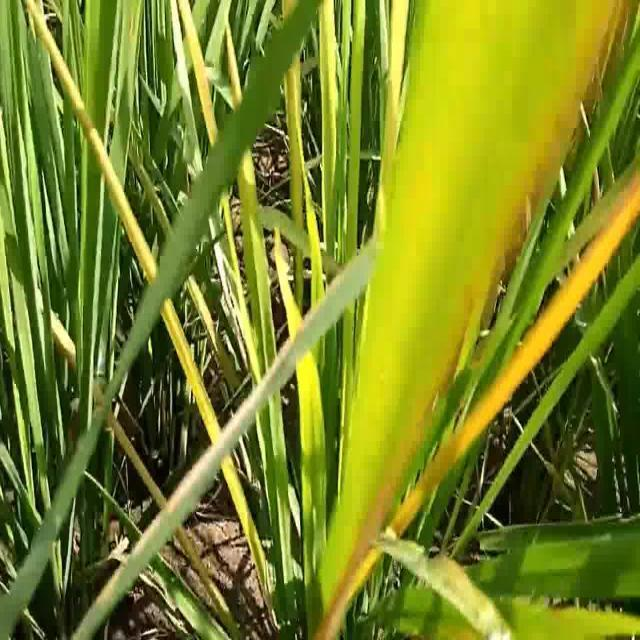Rice Tungro: (345, 1, 619, 384), (33, 8, 199, 410), (444, 181, 640, 476), (180, 3, 252, 324), (283, 62, 323, 263)
